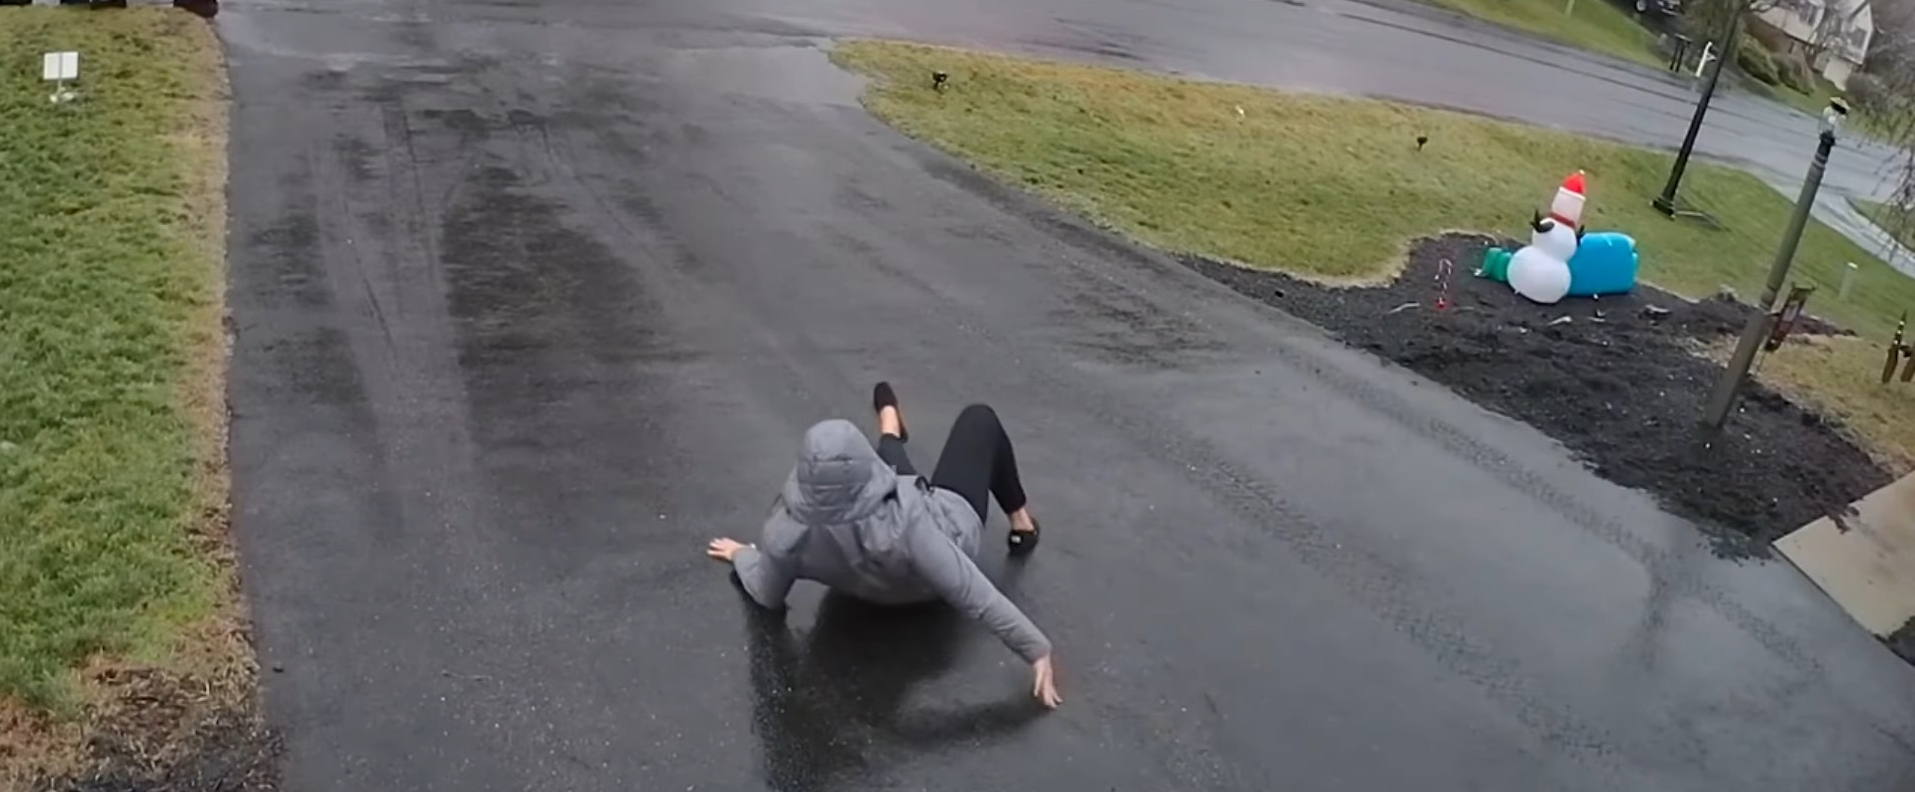fall: (705, 364, 1109, 768)
